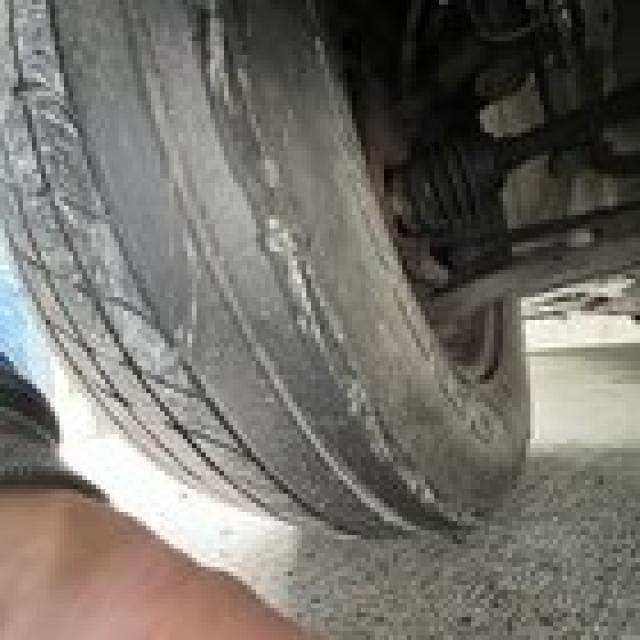Flat spots: (72, 3, 290, 224), (162, 234, 402, 394)
